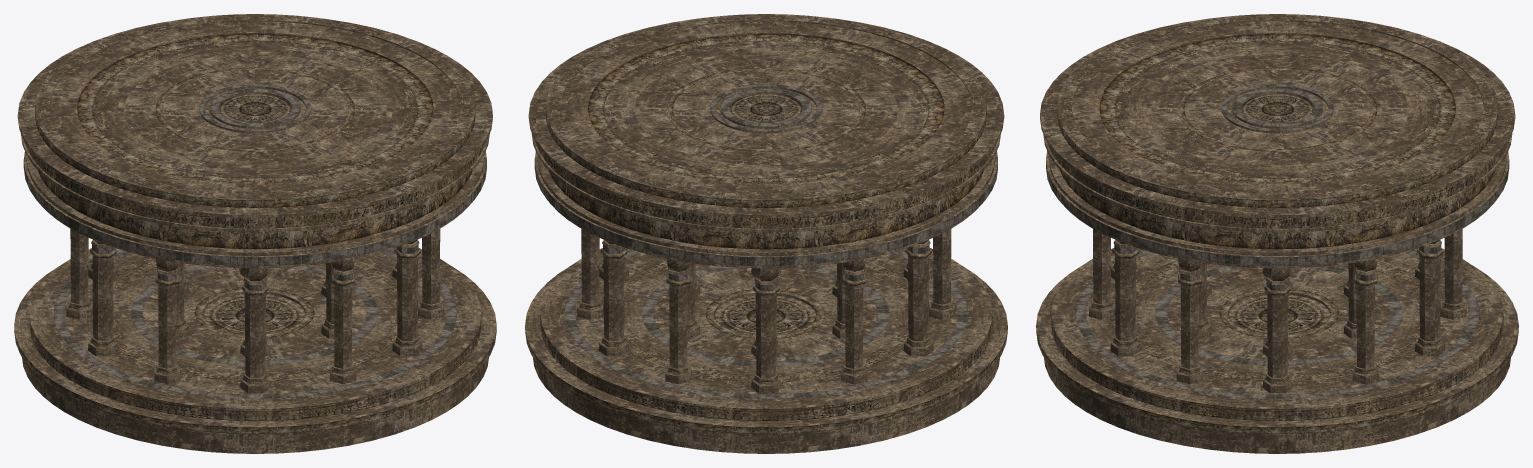
The model's file is materials_5_building_34.fbx.
The picture shows the model from 3 angles, left to right: view 1: azimuth 30°, elevation 25°; view 2: azimuth 150°, elevation 25°; view 3: azimuth 270°, elevation 25°; orthographic projection.
Visible parts, largest first — view 1: materials_5_building_34; view 2: materials_5_building_34; view 3: materials_5_building_34.
Boxes of the visible parts, box(x1,y1,x2,y2) form: materials_5_building_34: box(14, 14, 496, 453); materials_5_building_34: box(525, 14, 1007, 453); materials_5_building_34: box(1036, 14, 1518, 453).
Bounding box in the file's own units: 1198 × 679 × 1198.
